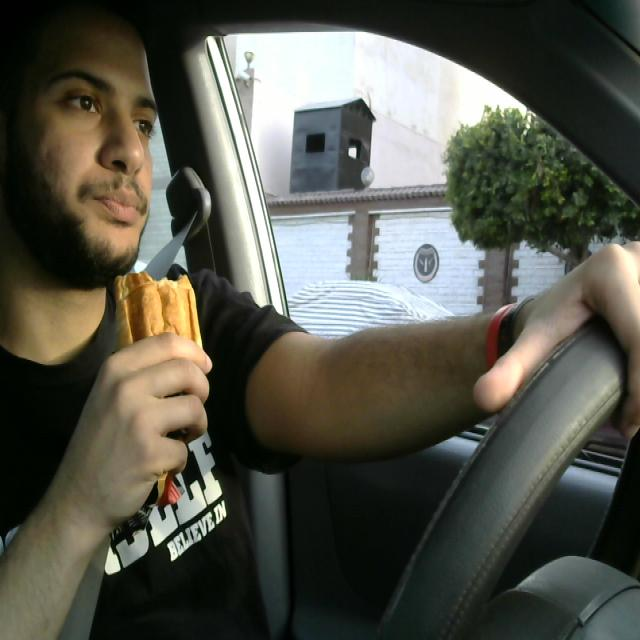eating: (112, 268, 203, 476)
